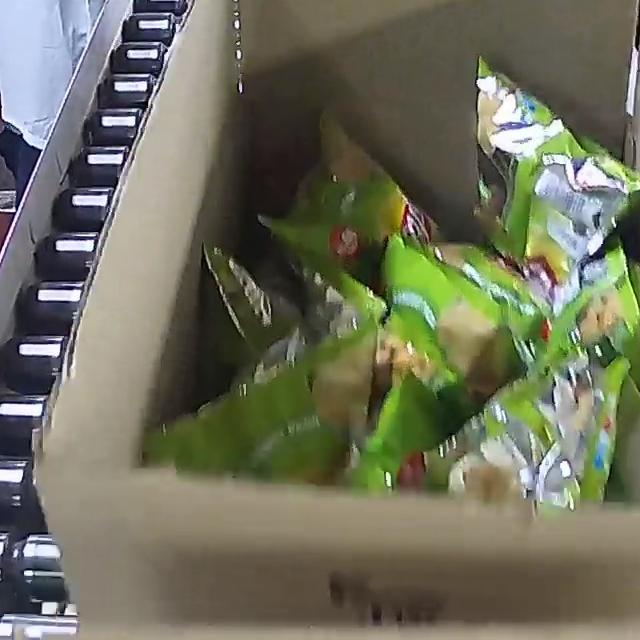yogurt: (143, 53, 640, 514)
